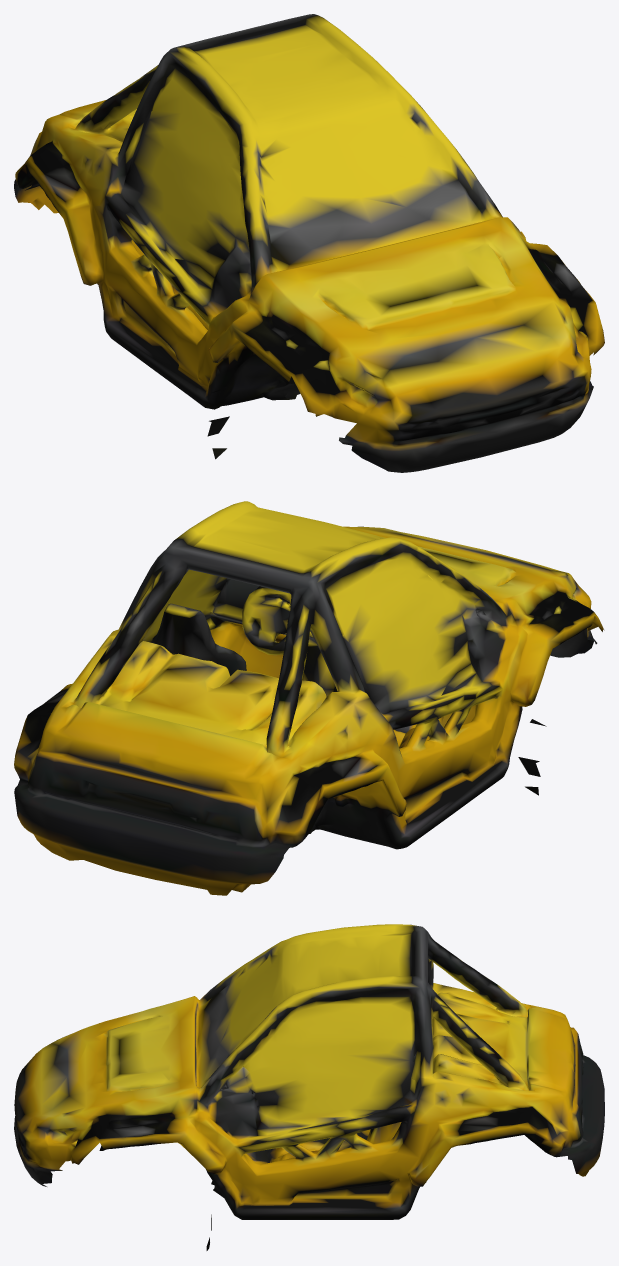
The model's file is buggy.glb.
The picture shows the model from 3 angles, top to bottom: view 1: azimuth 30°, elevation 25°; view 2: azimuth 150°, elevation 25°; view 3: azimuth 270°, elevation 25°; orthographic projection. The views are drawn at different scales.
Visible parts, largest first — view 1: geometry_0; view 2: geometry_0; view 3: geometry_0.
Part boxes in pixels (x1,y1,x2,y2): geometry_0: (14, 14, 604, 472); geometry_0: (14, 501, 604, 895); geometry_0: (14, 924, 604, 1250).
Size of the model in its own units: 2.04 by 1.69 by 3.8.
